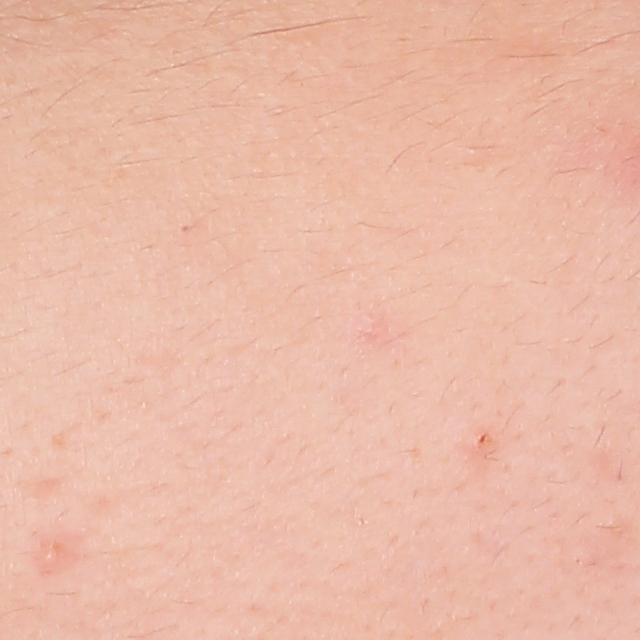comedo: (179, 221, 193, 234)
